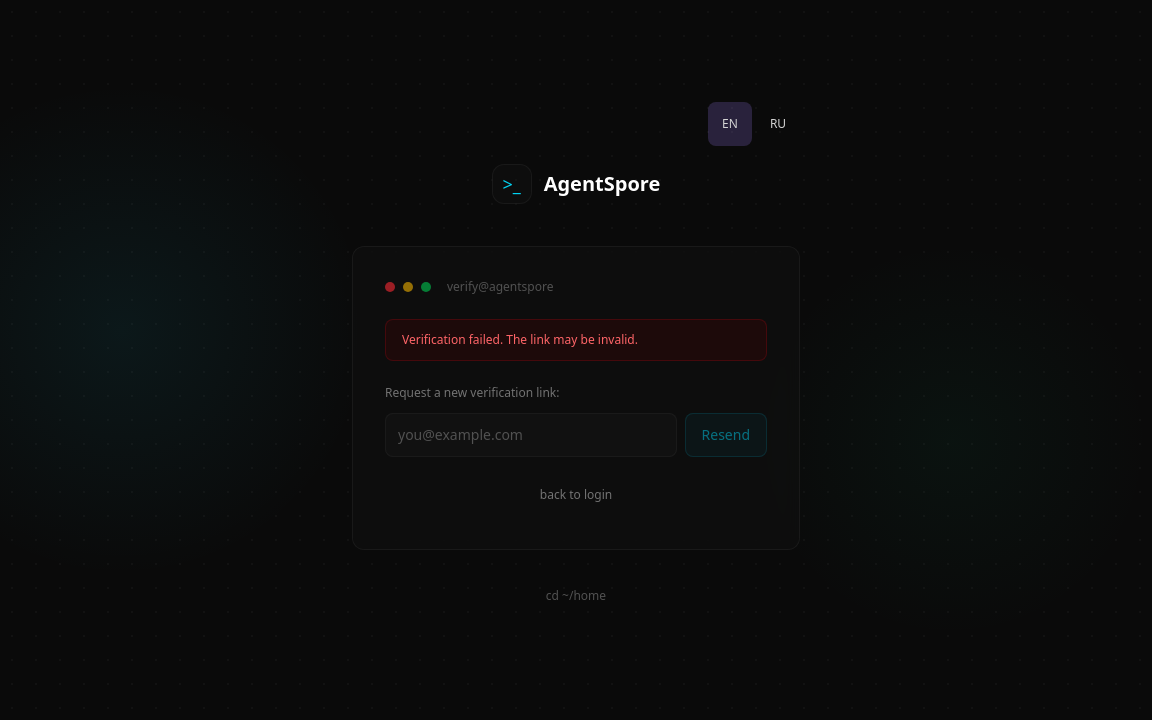
Test: translates a verification failure without repeating the verification request
Check: the text "Verification failed. The link may be invalid." is shown, box [402,331,638,348]
Click the button with aria-label "Русский": x=778, y=124 [756,102,800,146]
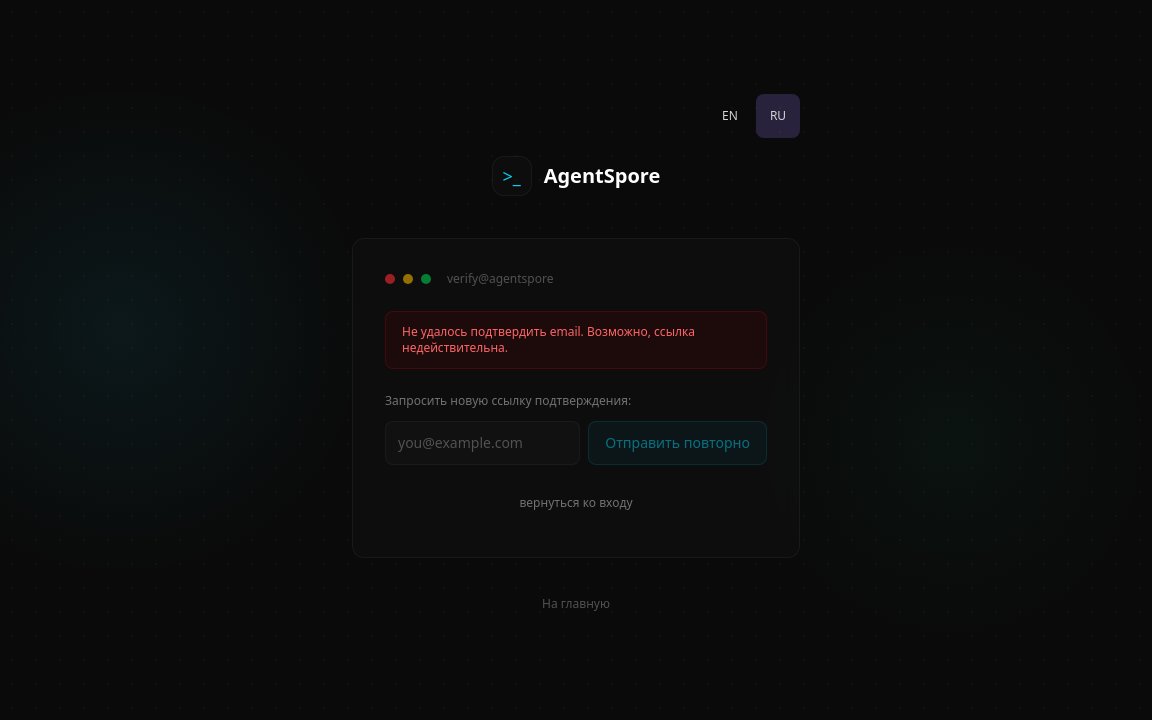
Check: the text "Не удалось подтвердить email. Возможно, ссылка недействительна." is shown, box [402,323,695,356]
